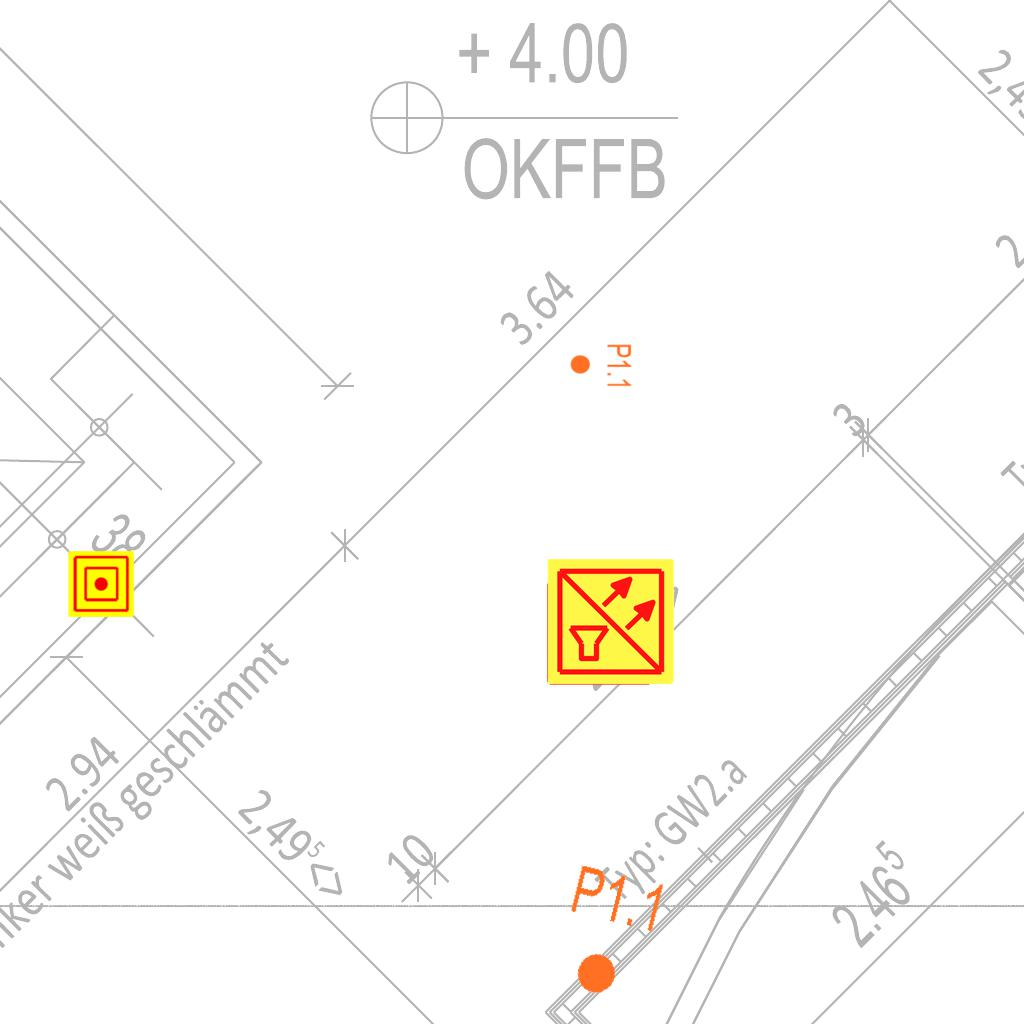Downlight_LED_Einbauleuchten_Flur: (548, 860, 671, 1008), (569, 343, 633, 389)
NAM-Nichtautomatischer_Melder: (68, 551, 134, 617)
OKW_Multisensormelder_(Kombination_optischer_Rauch-Kahlenmonoxid_Waerme-Melder): (545, 556, 677, 688)
